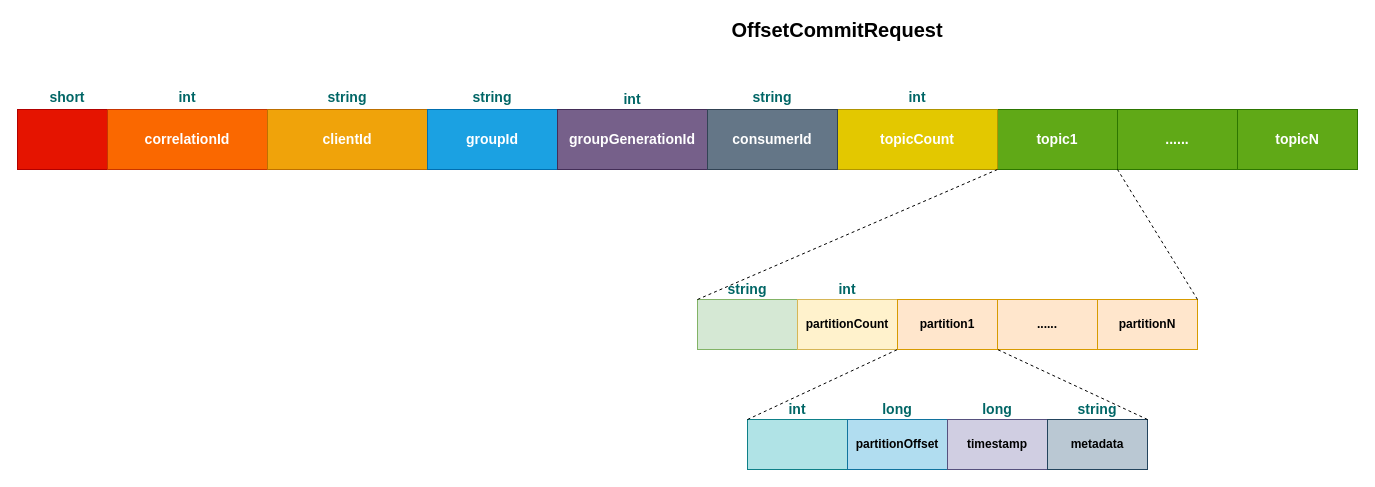
Image size: 1375x487. Some labels were removed from this diagram. The shapes that lost their labels are listed below. From the top down, each one's centre as x and y in pixels, then its label:
(62,139): versionId
(747,324): topicName
(797,444): partitionId
